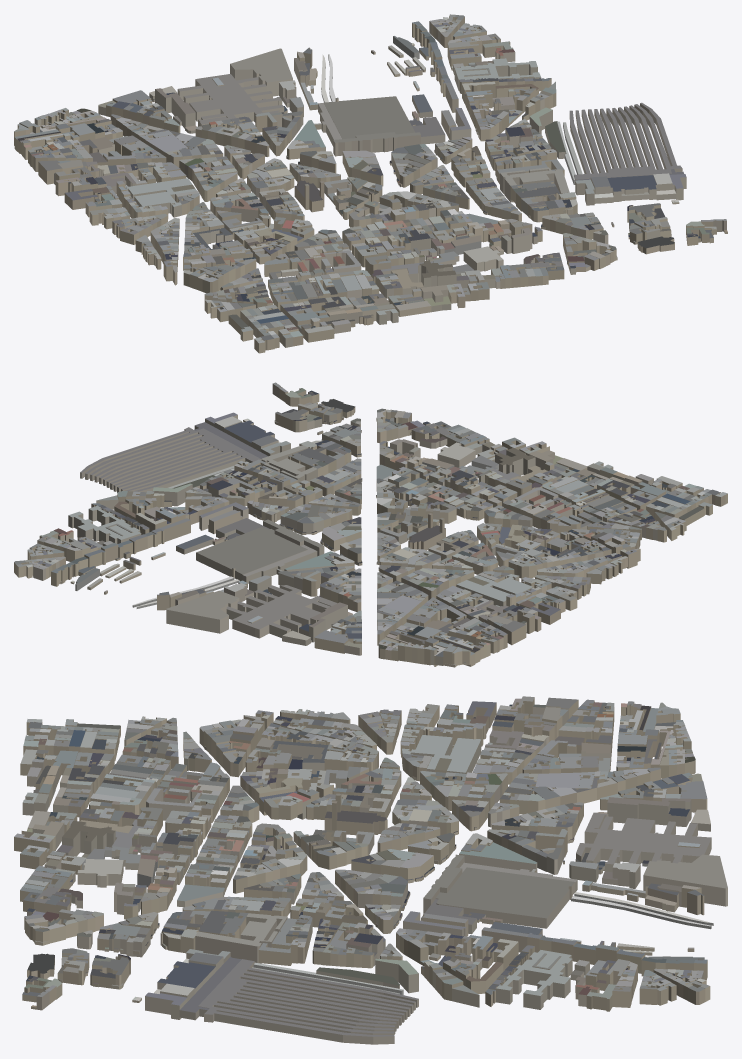
3 views of the same model, one above another, from view 1: azimuth 30°, elevation 25°; view 2: azimuth 150°, elevation 25°; view 3: azimuth 270°, elevation 25° (orthographic). The views are drawn at different scales.
Parts seen in each view (by area): view 1: tuile; view 2: tuile; view 3: tuile.
Boxes of the visible parts, left/top/right/bottom form: tuile: left=14, top=14, right=727, bottom=353; tuile: left=14, top=382, right=727, bottom=667; tuile: left=14, top=696, right=727, bottom=1044.
Size of the model in its own units: 1136 by 71 by 1061.
